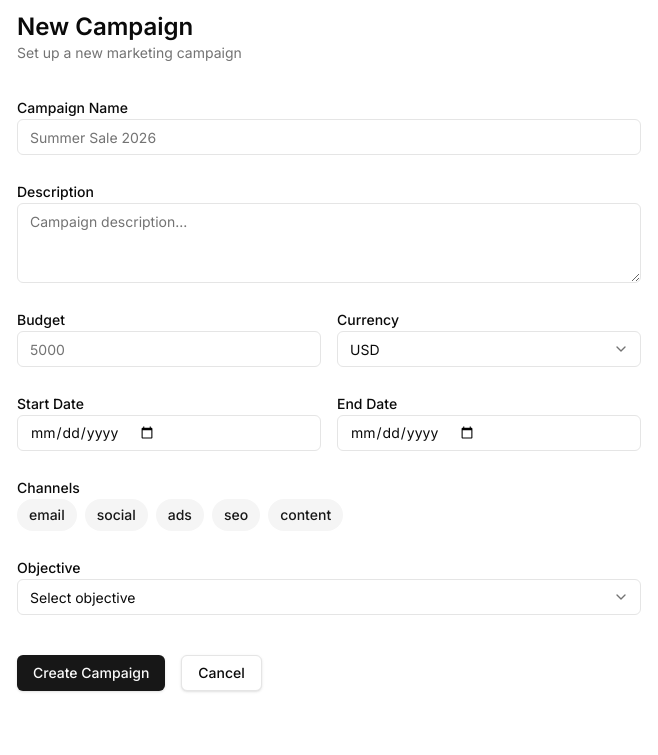
Scenario: NewCampaignPage › shows validation error when name is empty
What coordinates should you click on to do the following:
click the button "Create Campaign"
I would click on:
 (91, 673)
Its box is [17, 655, 165, 691].
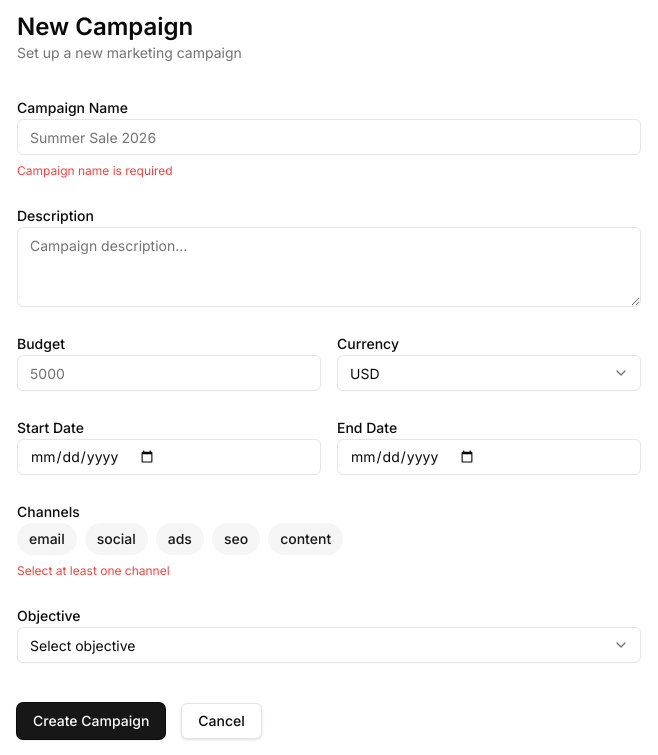
Now the text "Campaign name is required" is shown, box [17, 163, 173, 178]
